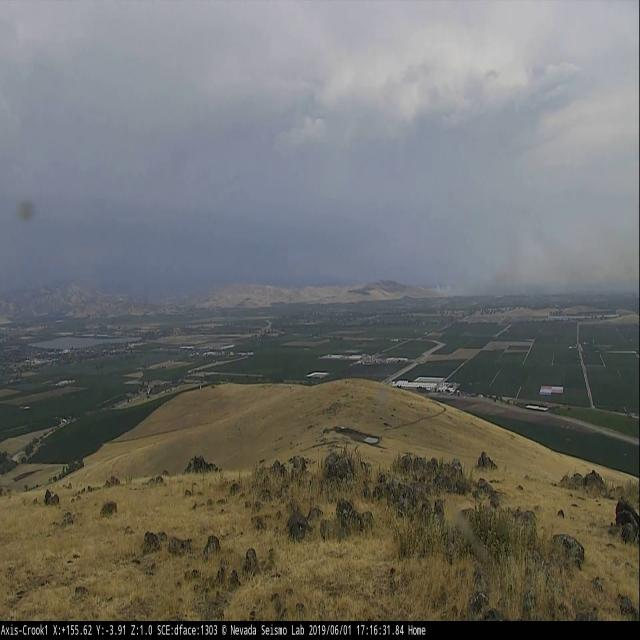smoke: (420, 215, 640, 298)
